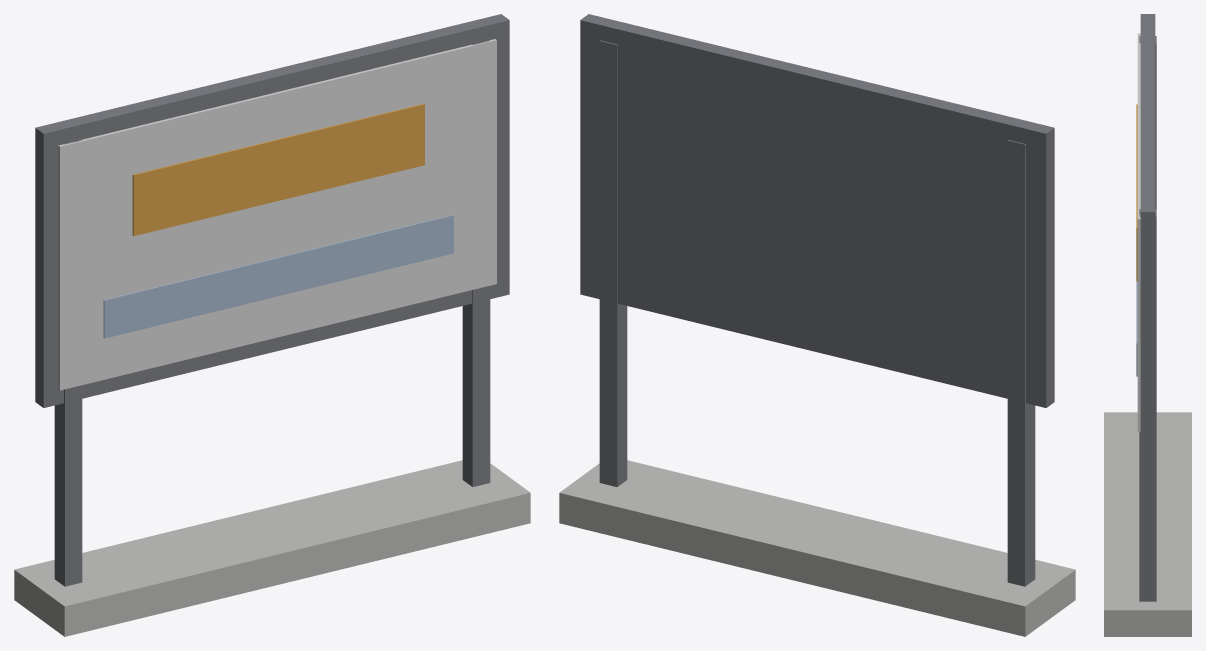
The model's file is Reklam_Panosu.glb.
3 renders of one model, left to right at view 1: azimuth 30°, elevation 25°; view 2: azimuth 150°, elevation 25°; view 3: azimuth 270°, elevation 25°, orthographic. The views are drawn at different scales.
Visible parts, largest first — view 1: Reklam_Panosu; view 2: Reklam_Panosu; view 3: Reklam_Panosu.
Boxes of the visible parts, x1,y1,x2,y2 form: Reklam_Panosu: (14,14,530,636); Reklam_Panosu: (559,14,1075,636); Reklam_Panosu: (1104,14,1191,636).
Bounding box in the file's own units: 3.2 × 3.2 × 0.6.
